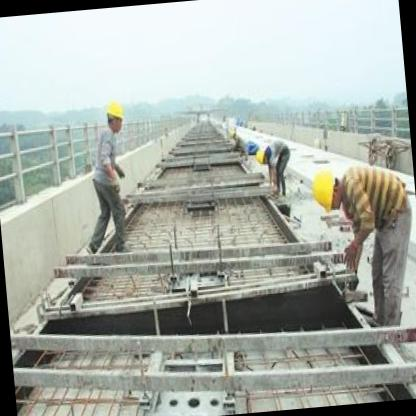helmet: (309, 162, 344, 219), (104, 95, 129, 136), (256, 147, 270, 169)
